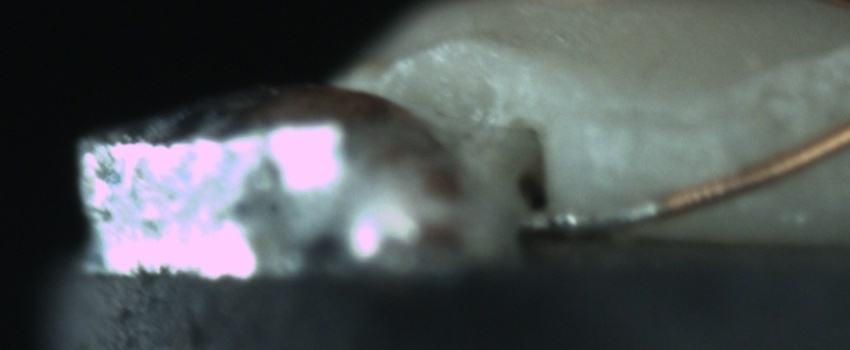DL: (587, 92, 736, 159)
TB: (549, 209, 590, 235)
TS: (530, 196, 668, 237)
TTCW: (531, 181, 716, 235)
